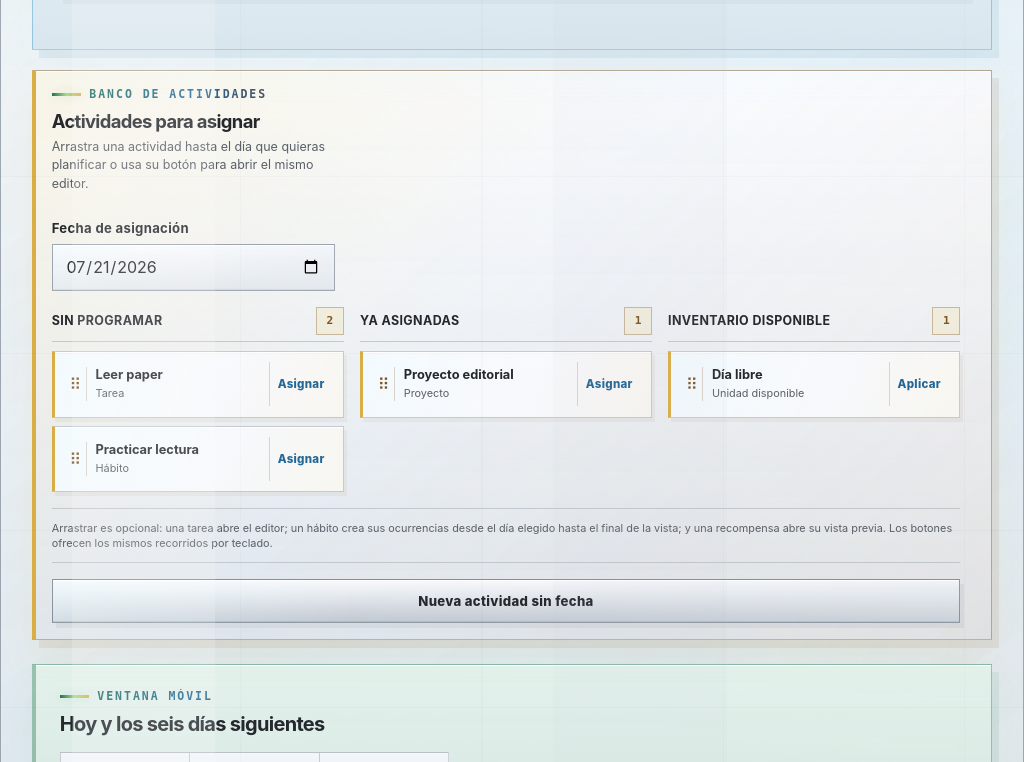
Test: asignables del calendario › devuelve el foco al botón nuevo cuando la actividad cambia de grupo al guardar
This screenshot has width=1024, height=762.
(page scrolled)
Click the button with aria-label "Asignar Leer paper". click: (301, 384)
box: [269, 362, 332, 406]
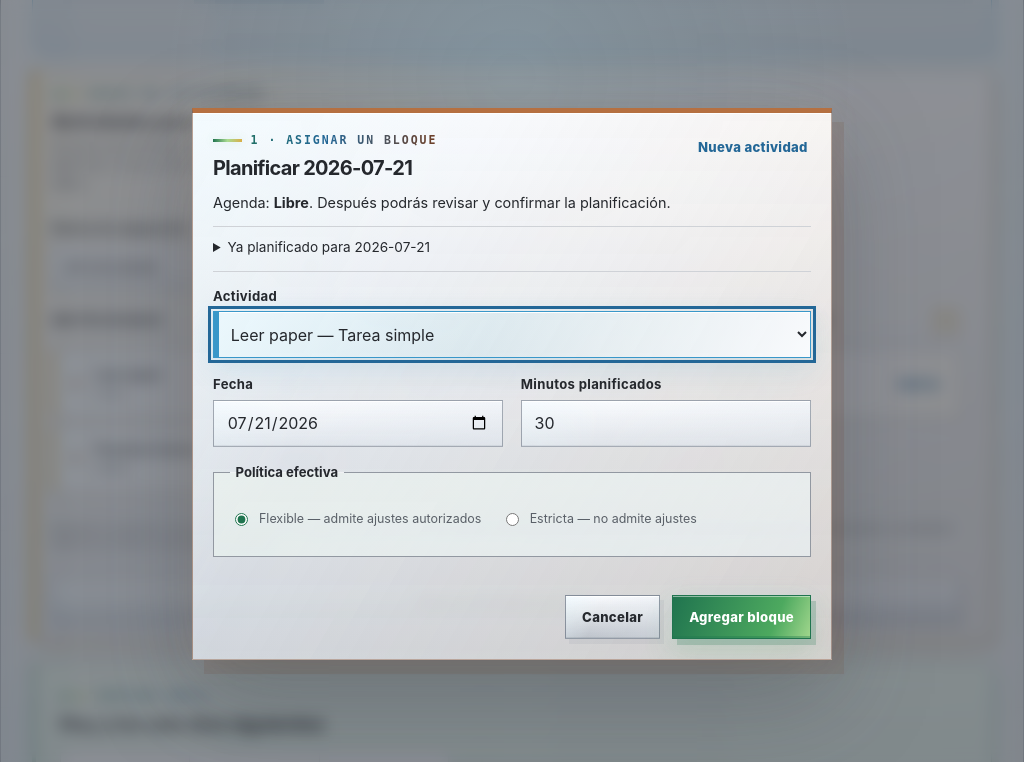
Click the button "Agregar bloque". click: (742, 617)
box: [672, 595, 811, 639]
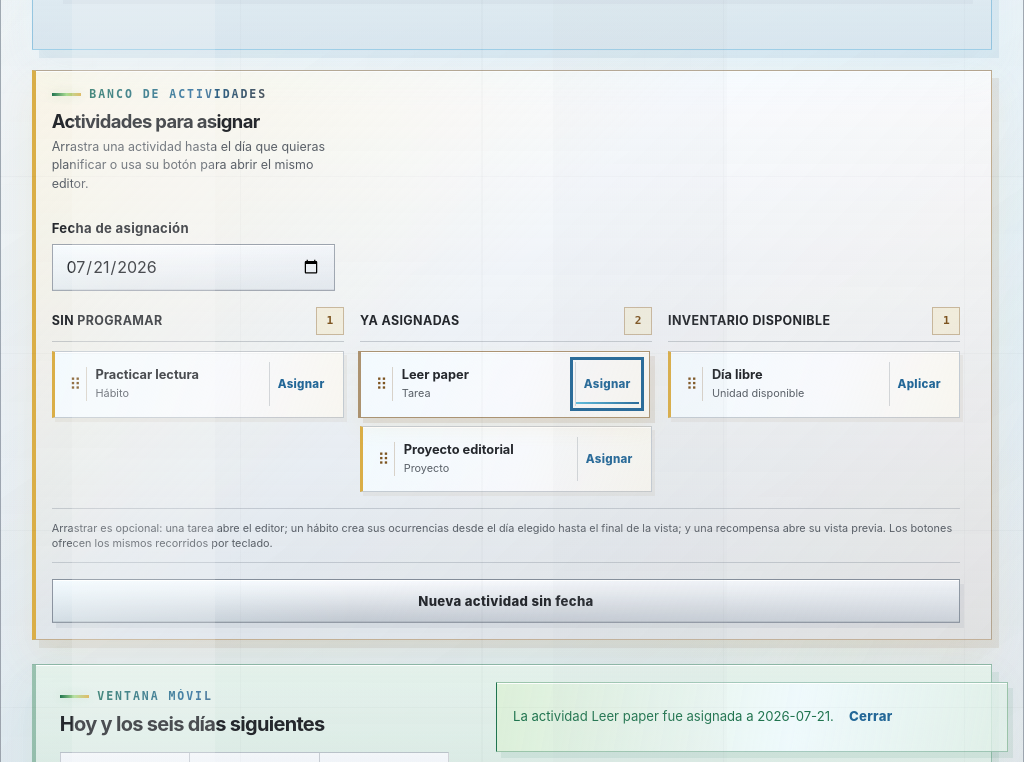
Expected: the text "La actividad Leer paper fue asignada a 2026-07-21." is shown, [513, 708, 834, 724]
